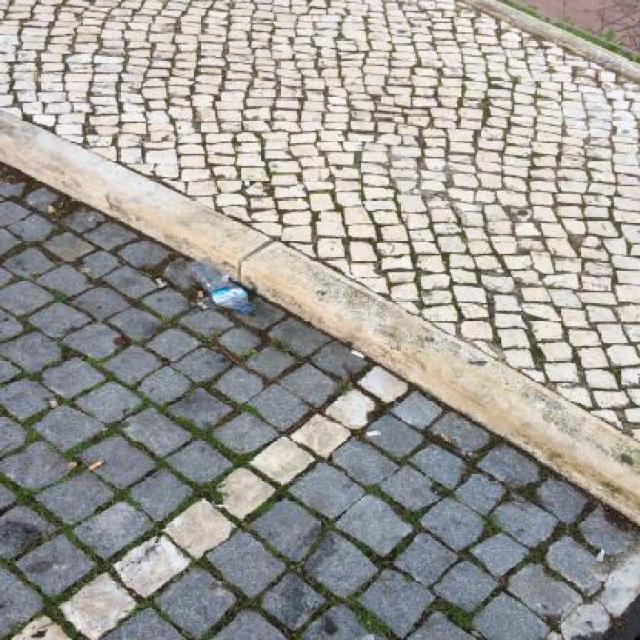plastic: (188, 259, 252, 315)
